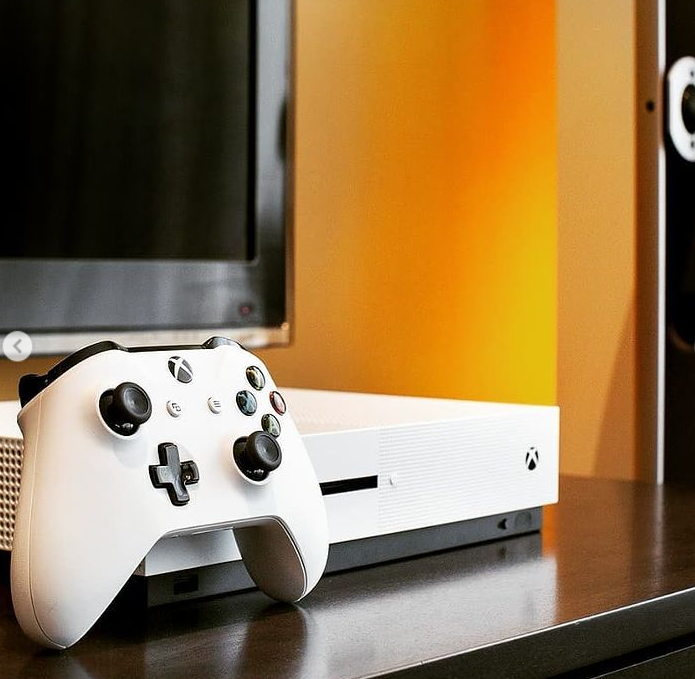gamingconsole: (16, 340, 328, 646)
